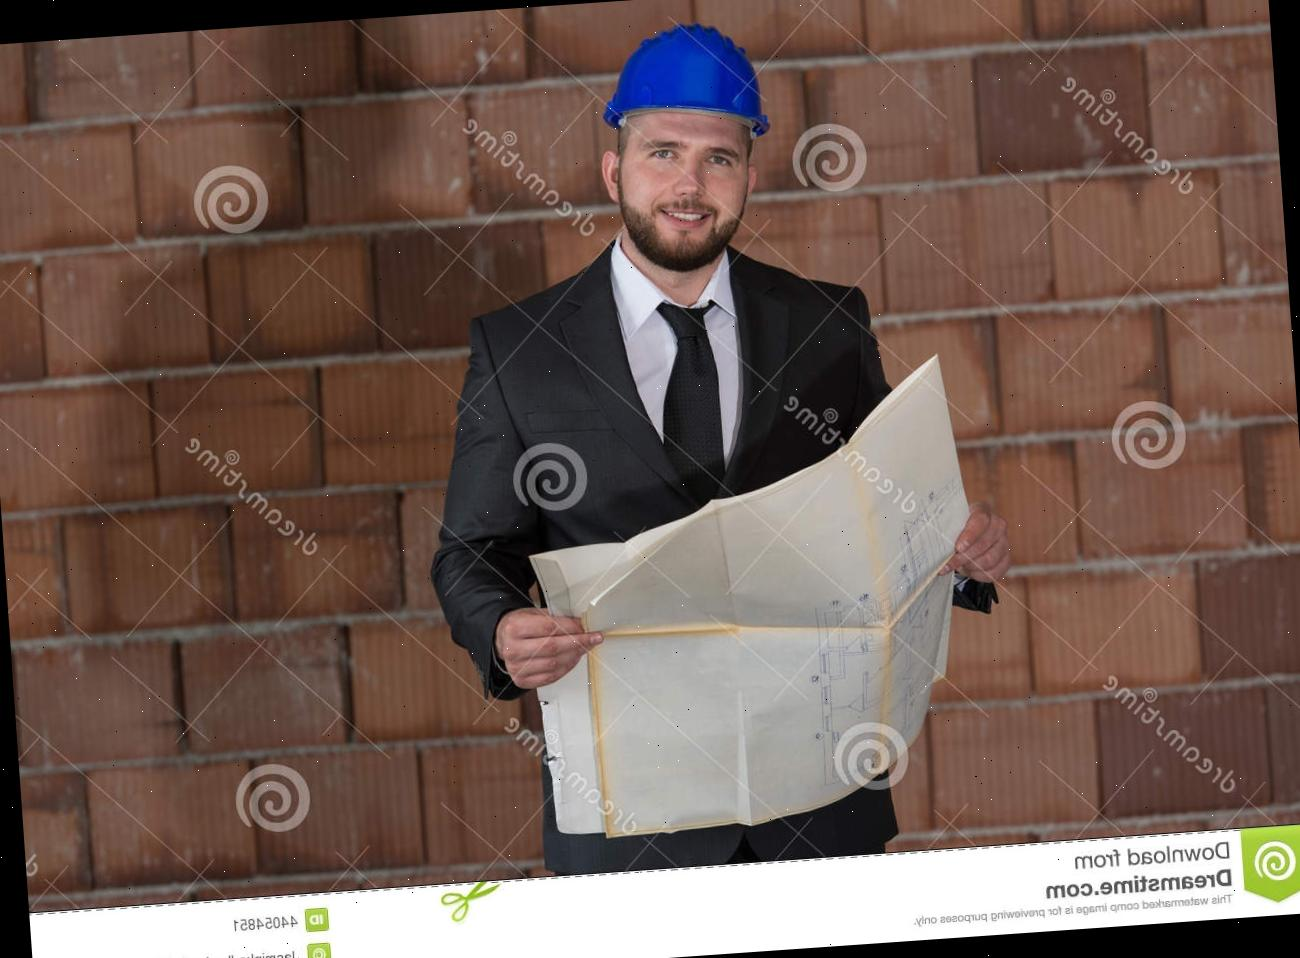helmet: (594, 15, 771, 148)
no_wear: (474, 272, 881, 550)
